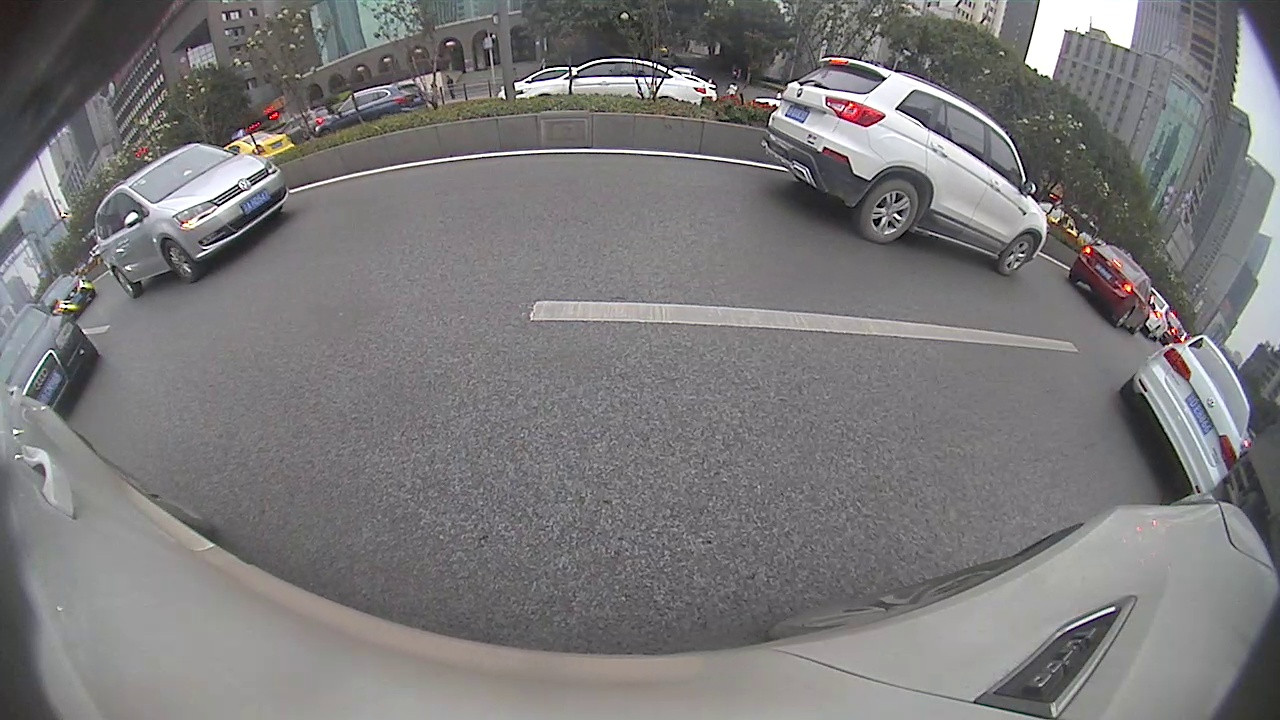car: (760, 57, 1048, 276), (95, 142, 289, 298), (1116, 333, 1253, 494), (0, 303, 100, 412), (516, 56, 709, 105), (1066, 242, 1157, 335)
front: (998, 234, 1035, 275), (163, 240, 198, 282)
rear: (862, 180, 923, 243), (111, 266, 137, 297)
